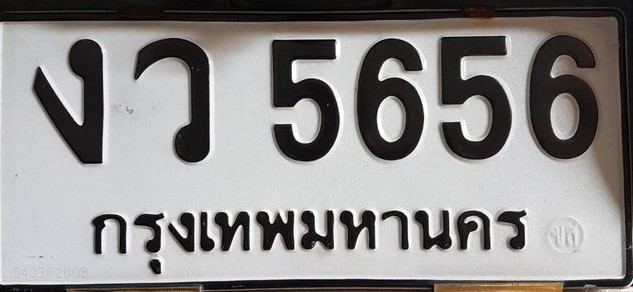txt05: (30, 38, 107, 169)
txt32: (132, 35, 213, 168)
